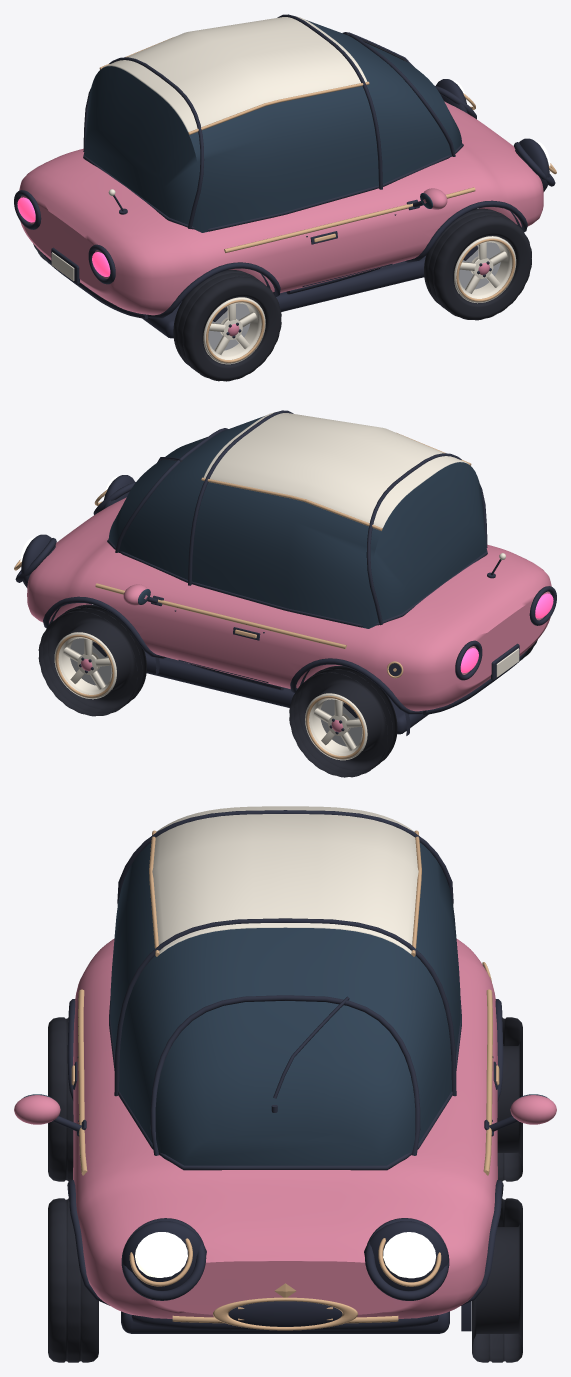
Rendered from city-pod.glb.
3 renders of one model, top to bottom at view 1: azimuth 30°, elevation 25°; view 2: azimuth 150°, elevation 25°; view 3: azimuth 270°, elevation 25°, orthographic. The views are drawn at different scales.
Visible parts, largest first — view 1: PT_city-pod_body, PT_city-pod_wraparound_glass, PT_city-pod_curved_roof, PT_city-pod_antenna_base, PT_city-pod_tyre_FL, PT_city-pod_antenna_tip, PT_city-pod_charge_port_pin, PT_city-pod_tail_light; view 2: PT_city-pod_body, PT_city-pod_wraparound_glass, PT_city-pod_curved_roof, PT_city-pod_antenna_base, PT_city-pod_tyre_FL, PT_city-pod_antenna_tip, PT_city-pod_charge_port_pin, PT_city-pod_tail_light; view 3: PT_city-pod_wraparound_glass, PT_city-pod_body, PT_city-pod_curved_roof, PT_city-pod_antenna_base, PT_city-pod_tyre_FL, PT_city-pod_charge_port_pin, PT_city-pod_headlight_lens.
Boxes of the visible parts, x1,y1,x2,y2 form: PT_city-pod_body: (19,101,543,336); PT_city-pod_wraparound_glass: (84,20,462,232); PT_city-pod_curved_roof: (101,16,367,132); PT_city-pod_antenna_base: (14,14,555,338); PT_city-pod_tyre_FL: (33,208,531,381); PT_city-pod_antenna_tip: (51,189,516,364); PT_city-pod_charge_port_pin: (99,37,556,362); PT_city-pod_tail_light: (17,197,110,276); PT_city-pod_body: (27,497,551,732); PT_city-pod_wraparound_glass: (108,416,486,628); PT_city-pod_curved_roof: (203,412,469,528); PT_city-pod_antenna_base: (15,410,556,734); PT_city-pod_tyre_FL: (38,604,537,777); PT_city-pod_antenna_tip: (54,553,519,760); PT_city-pod_charge_port_pin: (14,432,471,758); PT_city-pod_tail_light: (460,593,553,672); PT_city-pod_wraparound_glass: (110,842,460,1165); PT_city-pod_body: (14,939,556,1318); PT_city-pod_curved_roof: (152,806,418,953); PT_city-pod_antenna_base: (52,810,518,1333); PT_city-pod_tyre_FL: (48,1017,522,1362); PT_city-pod_charge_port_pin: (71,830,499,1330); PT_city-pod_headlight_lens: (135,1232,435,1278).
Bounding box in the file's own units: 3.58 × 1.94 × 2.51.
Materials: 13 (13 with a texture image).
